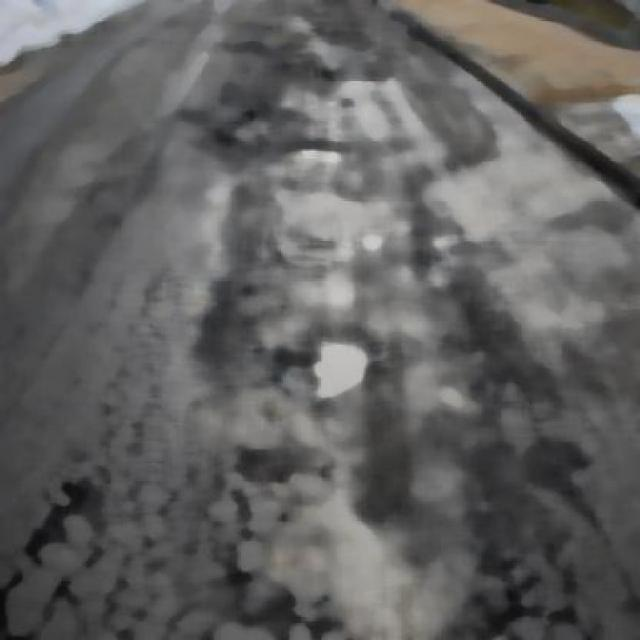Pothole: (296, 335, 389, 400)
